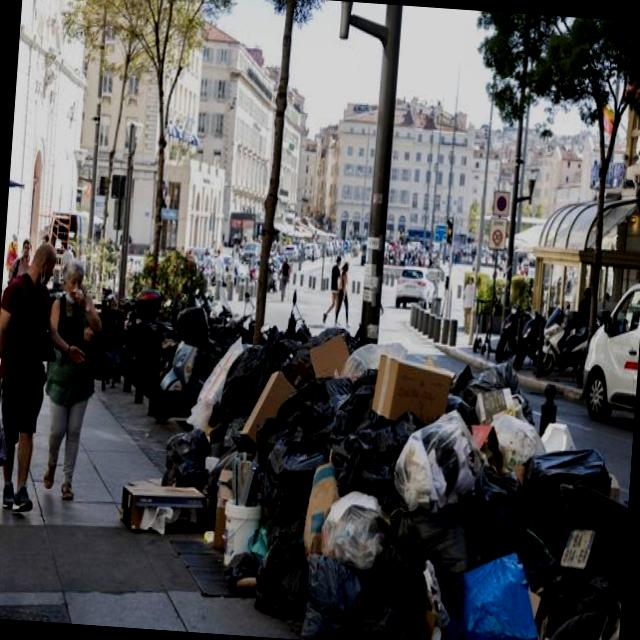garbage: (115, 296, 639, 640)
